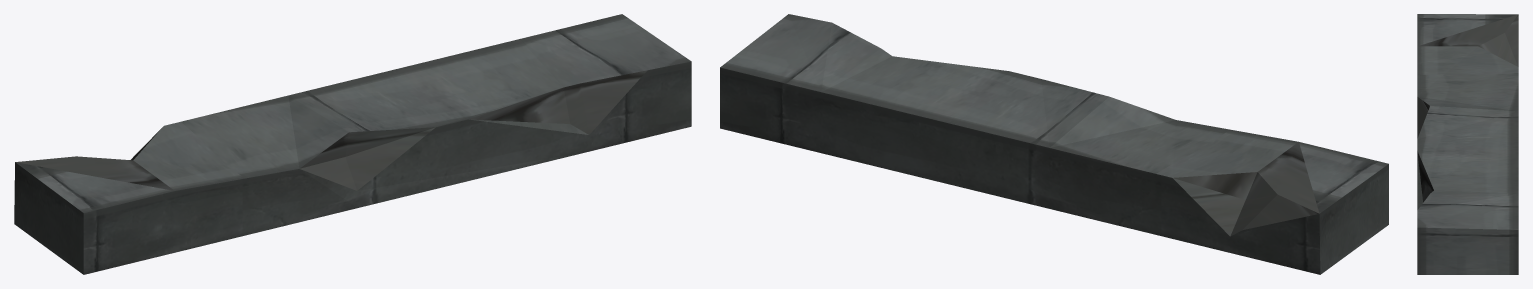
The model's file is sewer_room_brick004.FBX.
3 renders of one model, left to right at view 1: azimuth 30°, elevation 25°; view 2: azimuth 150°, elevation 25°; view 3: azimuth 270°, elevation 25°, orthographic. The views are drawn at different scales.
Visible parts, largest first — view 1: sewer_room_brick004; view 2: sewer_room_brick004; view 3: sewer_room_brick004.
Part boxes in pixels (left/top/right/bottom): sewer_room_brick004: left=14, top=14, right=691, bottom=274; sewer_room_brick004: left=720, top=14, right=1388, bottom=274; sewer_room_brick004: left=1417, top=14, right=1518, bottom=274.
Size of the model in its own units: 588 by 64.04 by 116.
